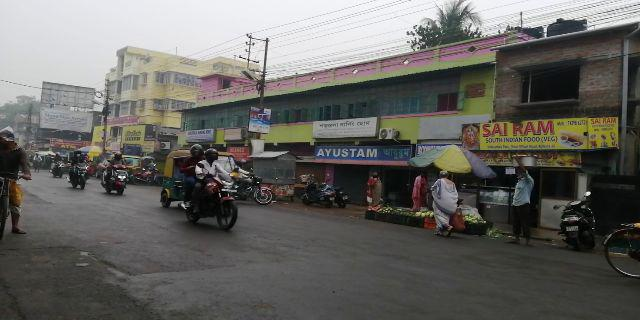Motorbike: (180, 152, 242, 233), (99, 147, 130, 196), (67, 147, 89, 189)
Truck: (160, 150, 246, 215)
